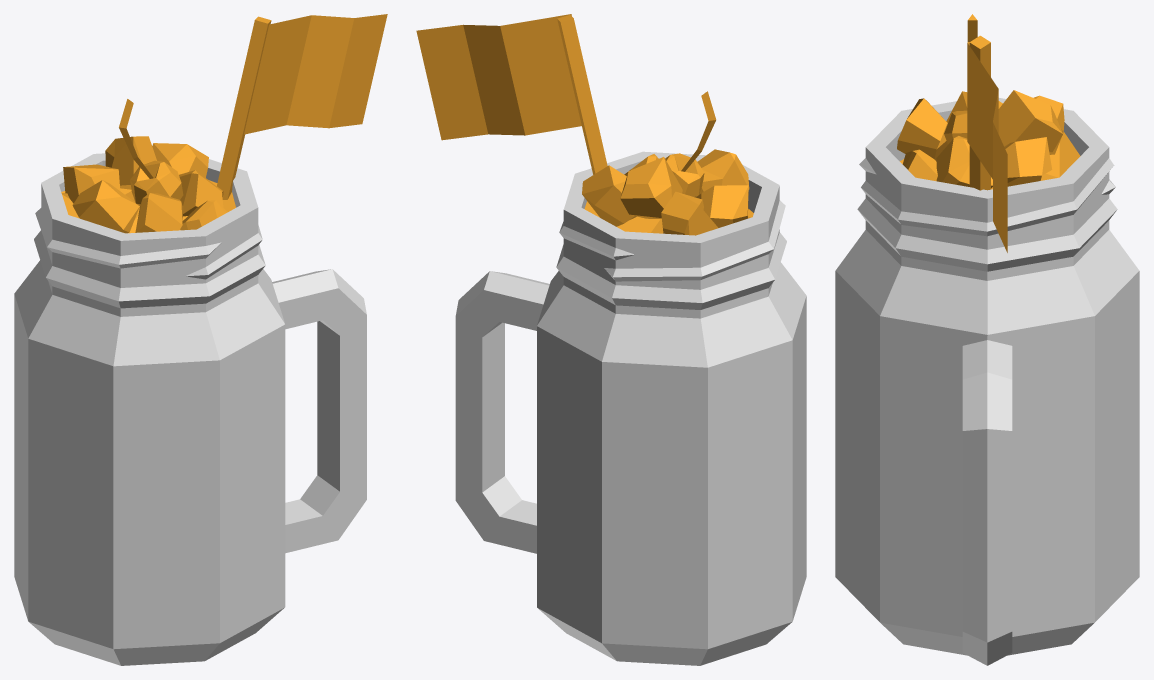
The model's file is SM_Mason_Jar_Drink_4july.fbx.
3 renders of one model, left to right at view 1: azimuth 30°, elevation 25°; view 2: azimuth 150°, elevation 25°; view 3: azimuth 270°, elevation 25°, orthographic. The views are drawn at different scales.
Visible parts, largest first — view 1: mason-jar-drink-4july; view 2: mason-jar-drink-4july; view 3: mason-jar-drink-4july.
Boxes of the visible parts, x1,y1,x2,y2 form: mason-jar-drink-4july: [14, 14, 387, 665]; mason-jar-drink-4july: [416, 14, 806, 665]; mason-jar-drink-4july: [835, 14, 1139, 665].
Bounding box in the file's own units: 0.1773 × 0.266 × 0.1169.
